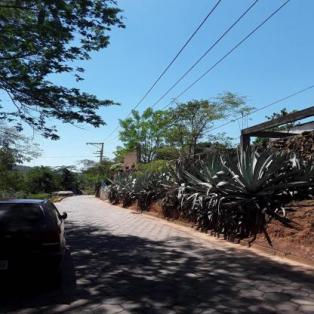Poste: (94, 141, 106, 196)
